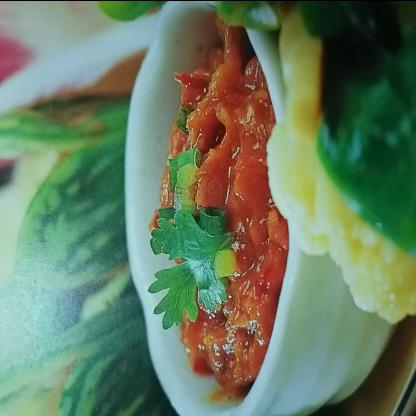Namprig: (134, 11, 326, 413)
